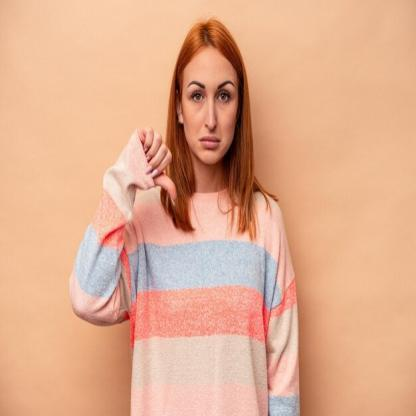thumb_down: (134, 122, 180, 206)
